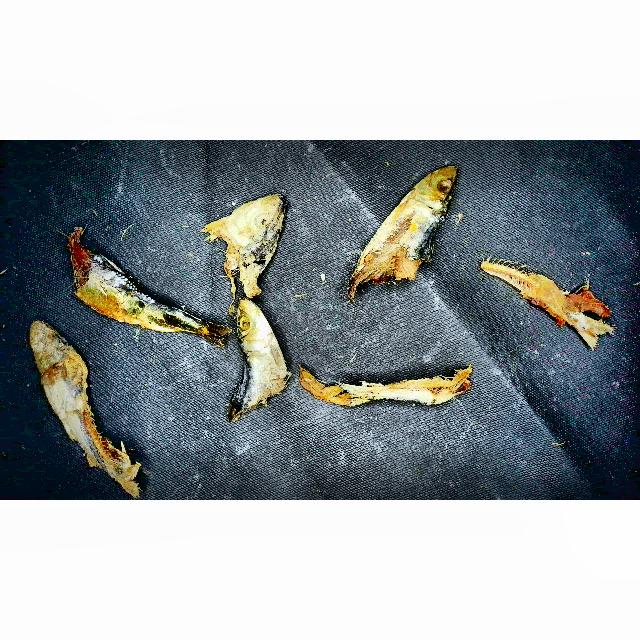Rejected_Body: (56, 228, 185, 338), (339, 212, 444, 299), (378, 355, 481, 427), (36, 385, 117, 472), (477, 254, 569, 321)
Rejected_Head: (197, 190, 293, 300), (224, 296, 293, 419), (395, 158, 462, 241), (24, 316, 86, 388)
Rejected_Tail: (179, 308, 234, 354), (335, 373, 382, 418), (102, 456, 152, 498), (572, 311, 614, 354)
